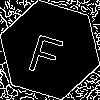F: (25, 25, 69, 77)
